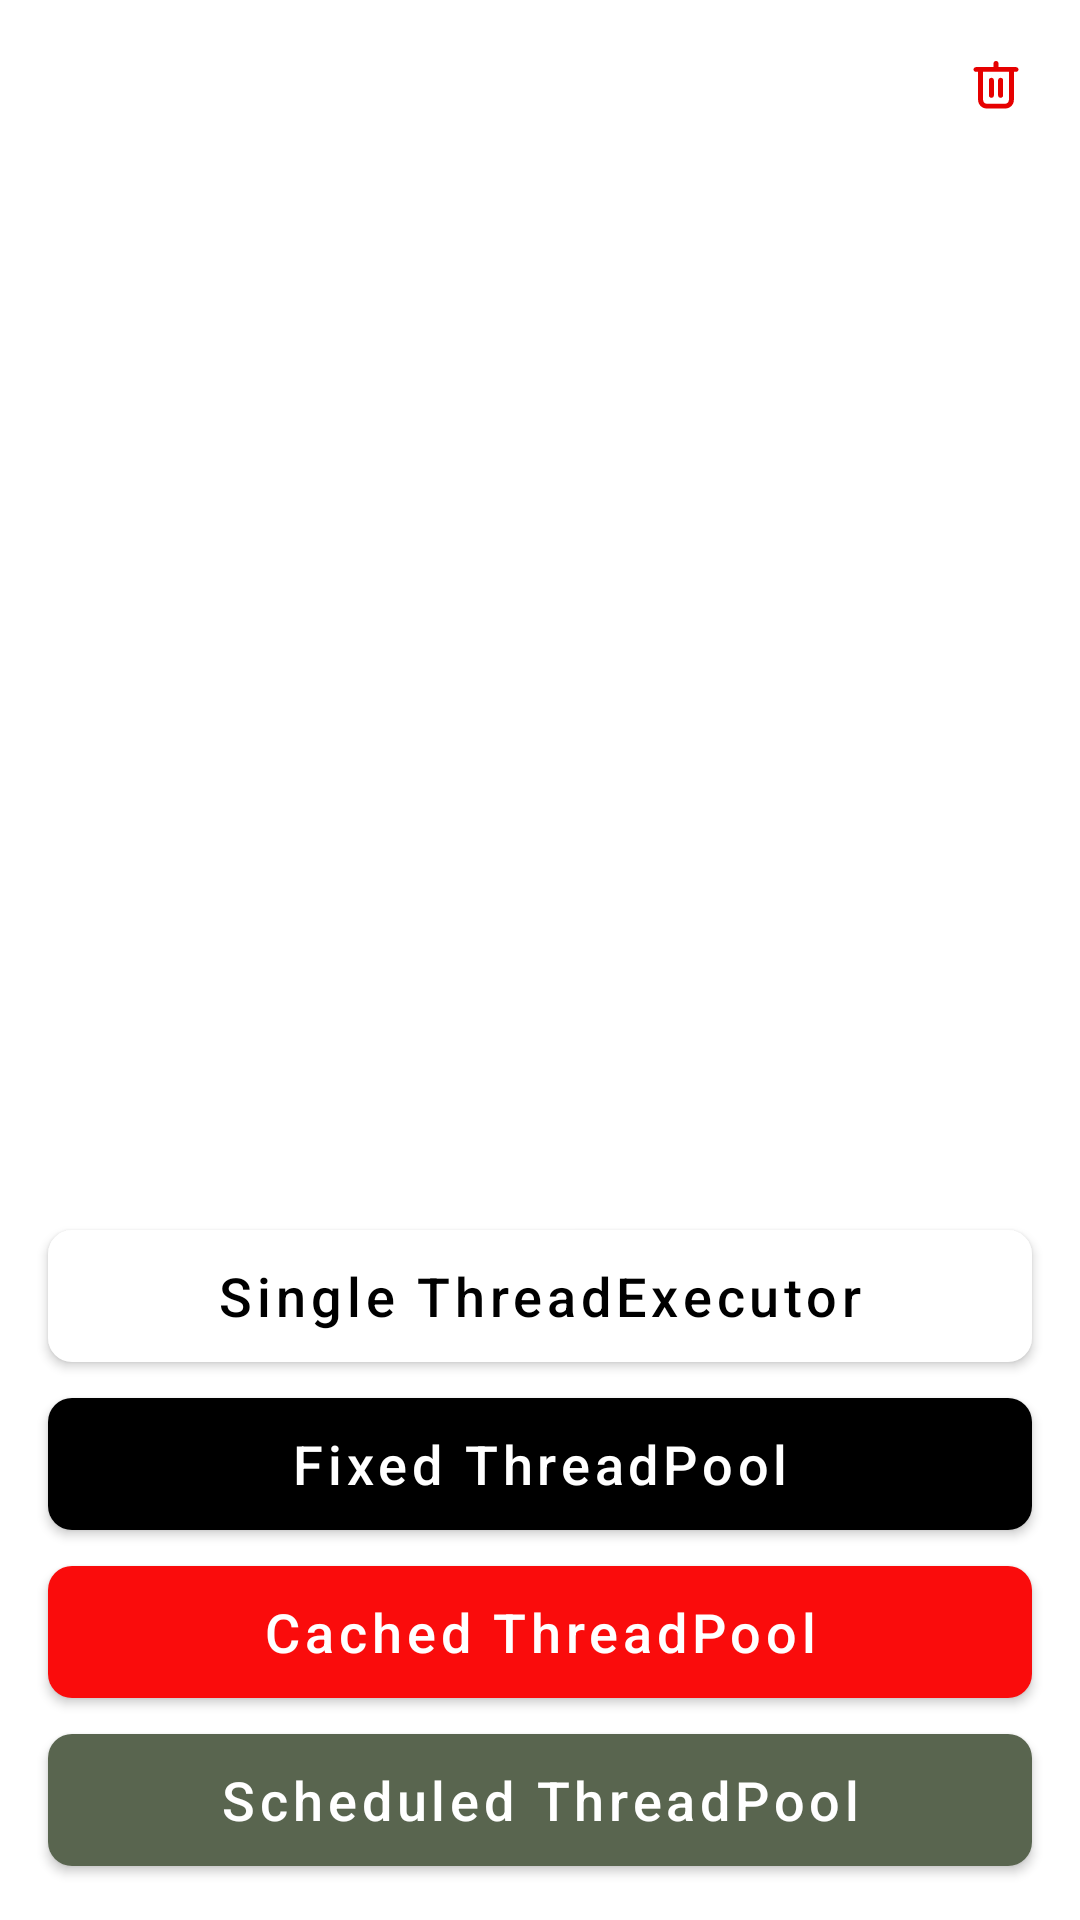

Icon click points for this 1080*1920 phone screenshot, format point (x, y):
clear: point (996, 85)
